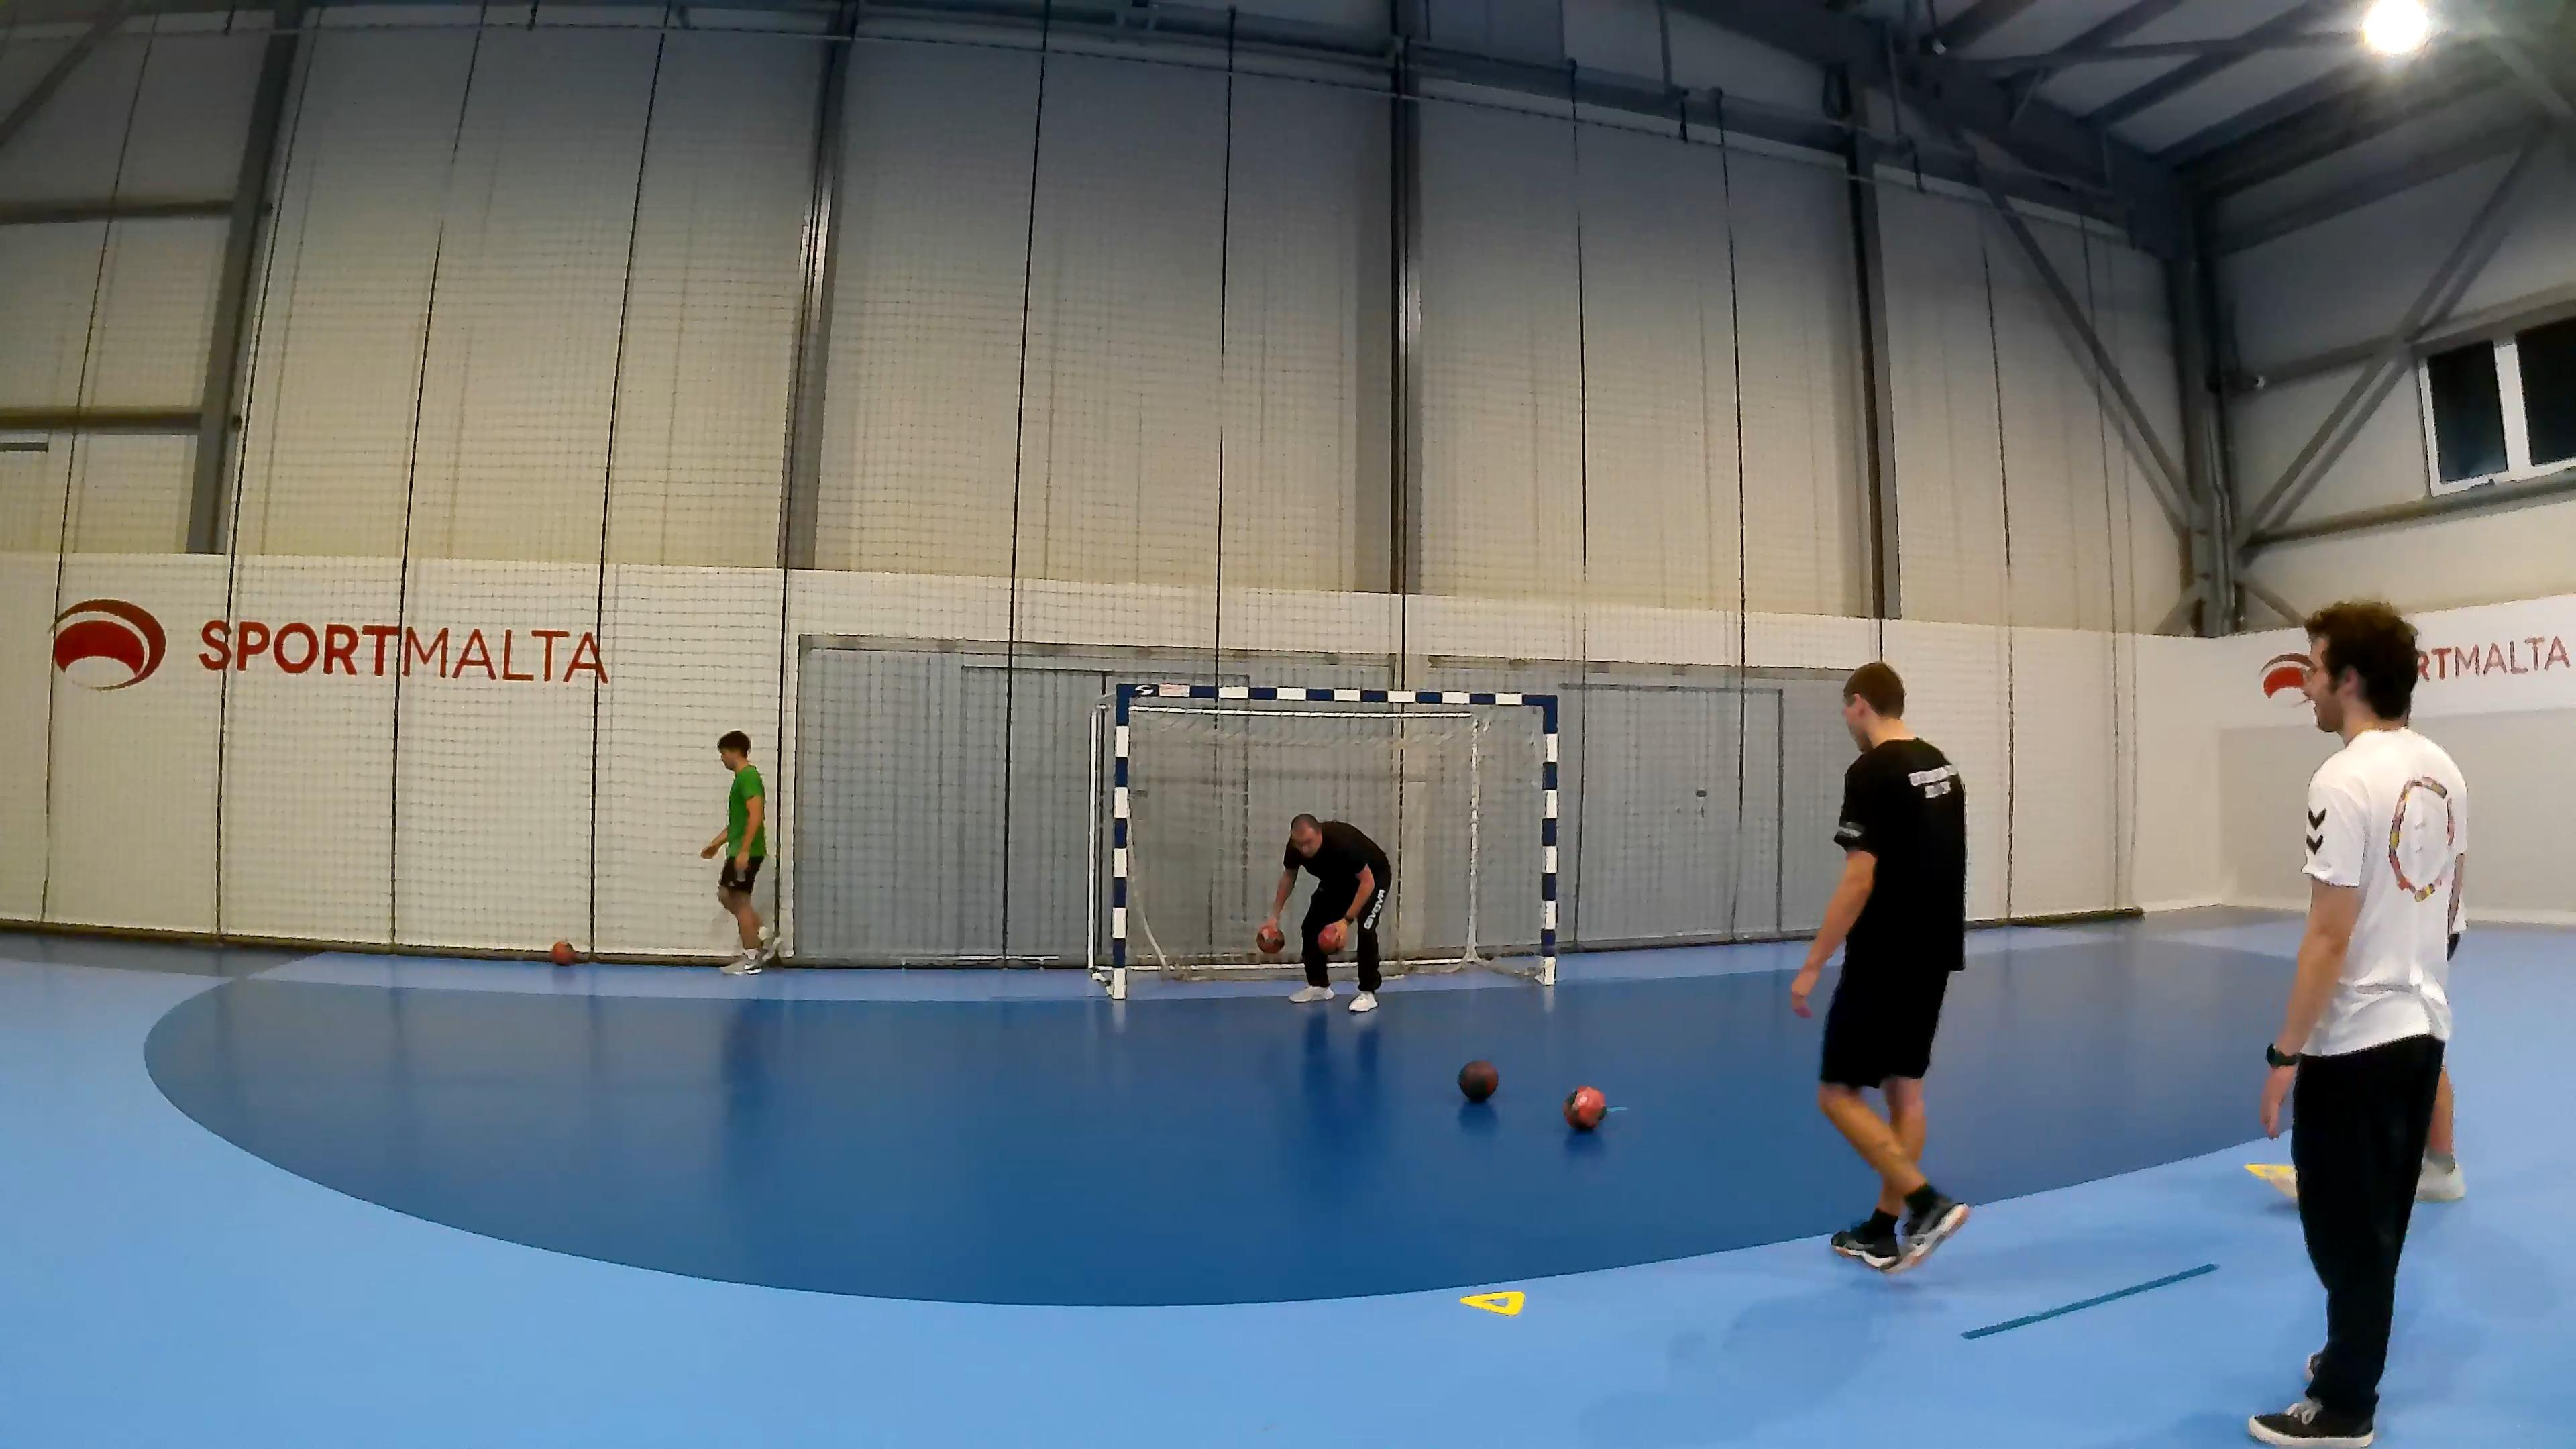handball: (1562, 1085, 1605, 1129), (1456, 1058, 1499, 1100), (1313, 922, 1353, 961), (548, 929, 582, 975), (1256, 924, 1284, 954)
